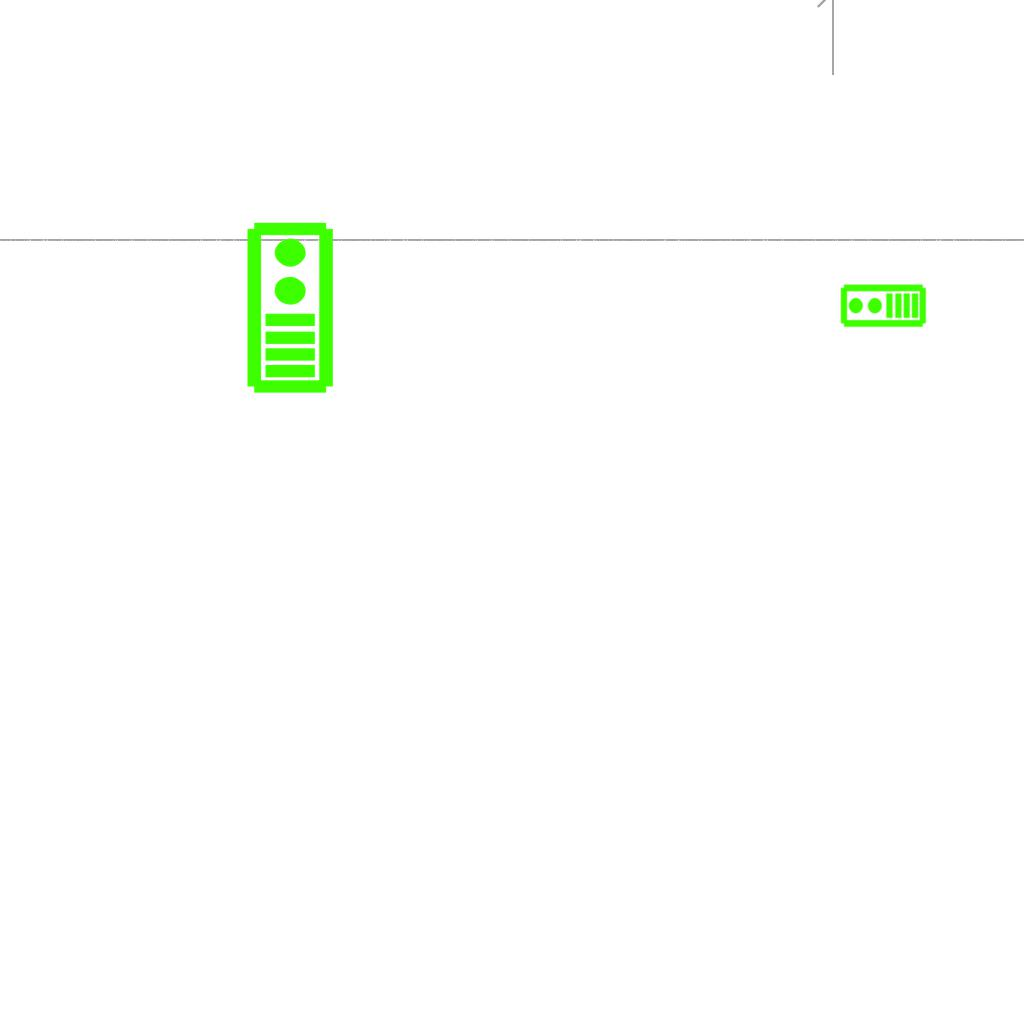Gegensprechanlage_mit_Video: (241, 219, 336, 395), (839, 283, 927, 330)
